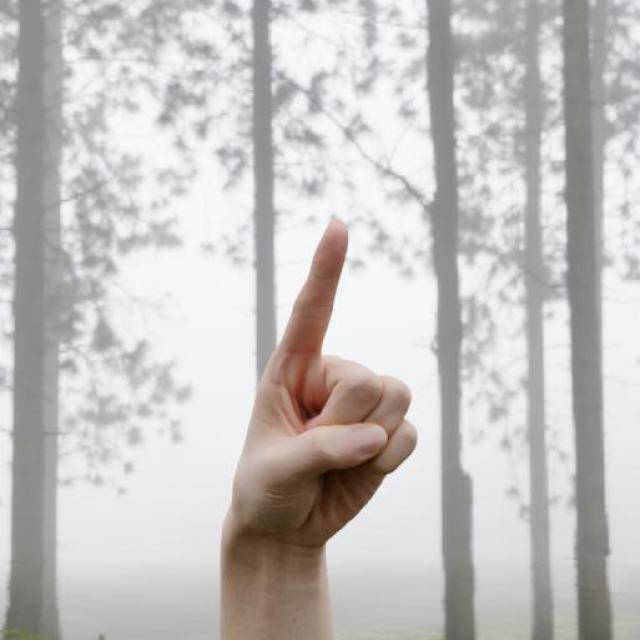Z: (220, 216, 420, 548)
